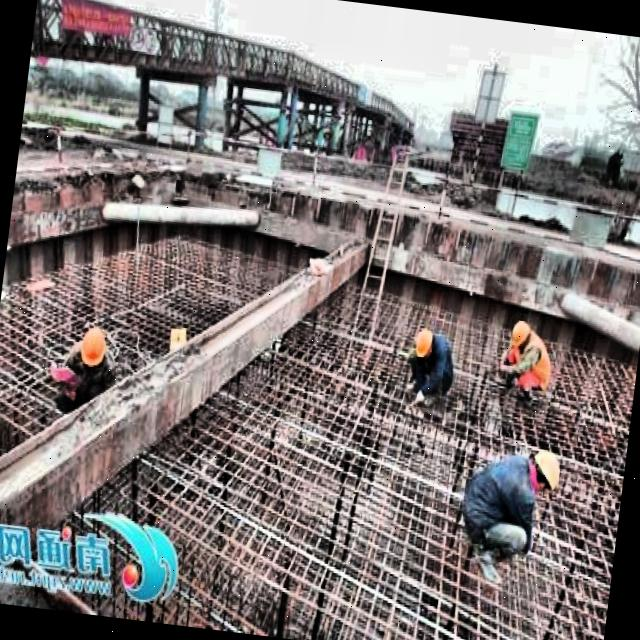helmet: (524, 443, 568, 498), (76, 321, 110, 370), (507, 312, 536, 354), (409, 326, 436, 364)
